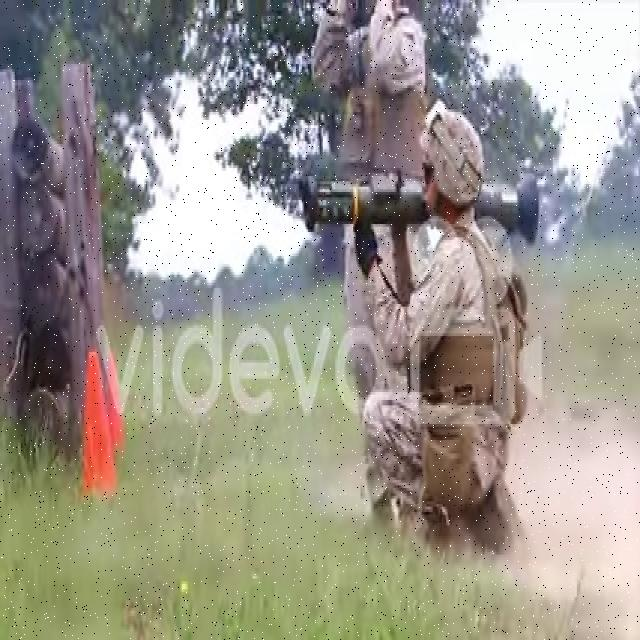bazooka: (302, 168, 543, 255)
